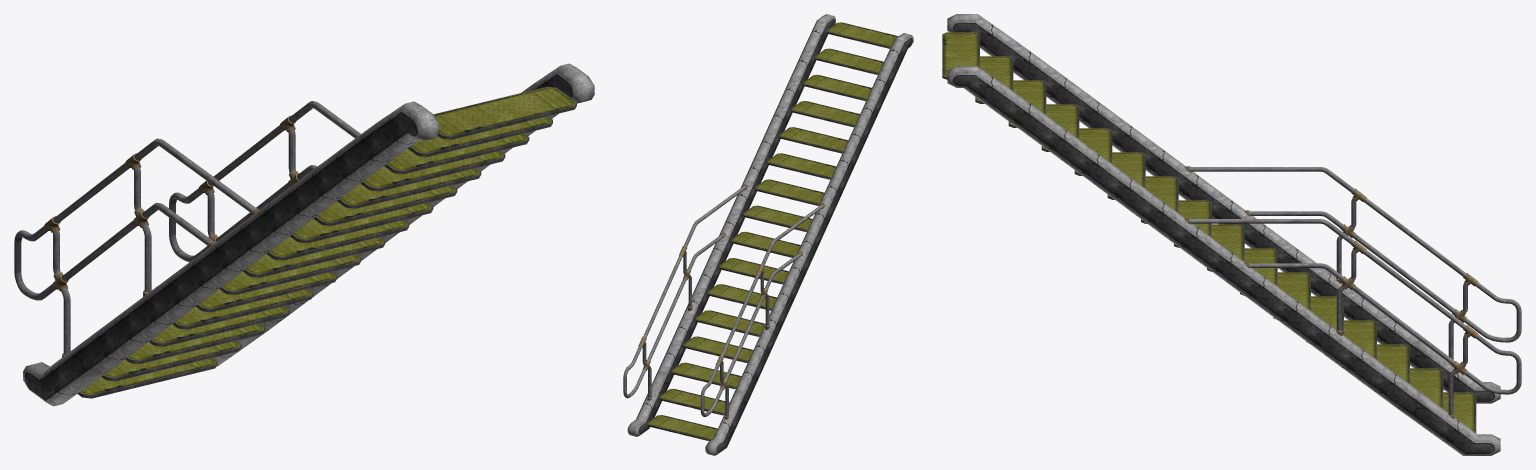
File: metal_pplant_hub_room_special.dae
3 views of the same model, side by side, from view 1: azimuth 30°, elevation 25°; view 2: azimuth 150°, elevation 25°; view 3: azimuth 270°, elevation 25° (orthographic). The views are drawn at different scales.
Visible parts, largest first — view 1: Mesh, rail; view 2: Mesh, rail; view 3: Mesh, rail.
Part boxes in pixels (box(x1,y1,x2,y2)): Mesh: box(23, 63, 594, 406); rail: box(14, 101, 360, 357); Mesh: box(627, 14, 913, 455); rail: box(623, 184, 824, 419); Mesh: box(942, 14, 1500, 455); rail: box(1184, 166, 1521, 418).
Size of the model in its own units: 2.06 by 6.3 by 8.56.
